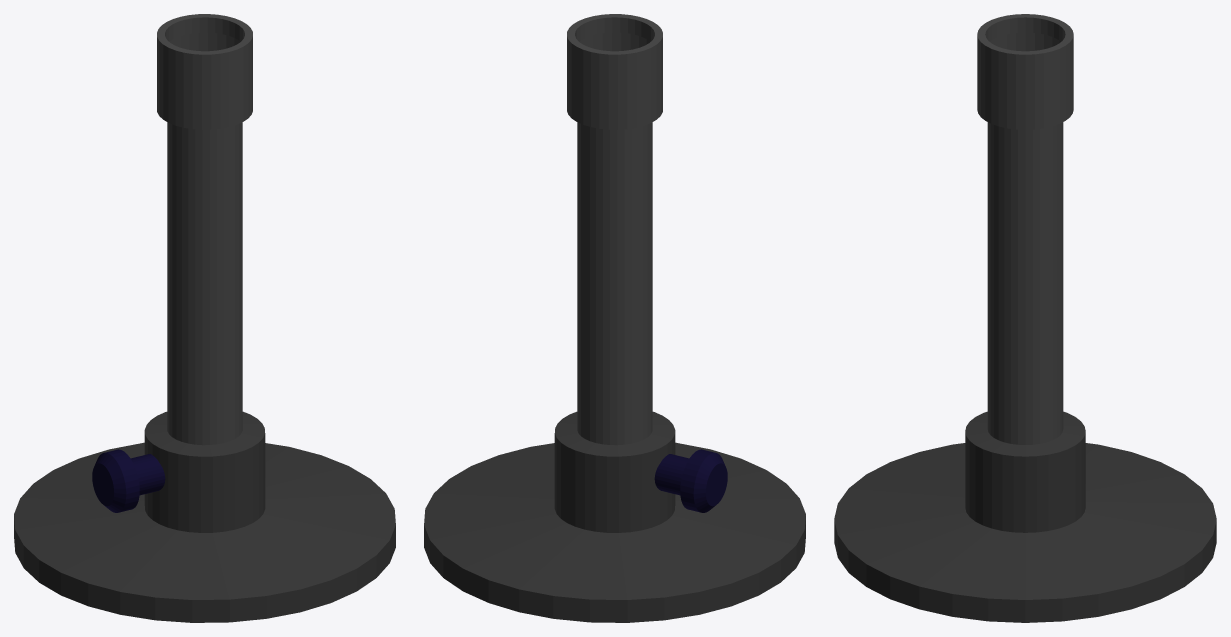
The model's file is BunsenBurner.fbx.
3 views of the same model, side by side, from view 1: azimuth 30°, elevation 25°; view 2: azimuth 150°, elevation 25°; view 3: azimuth 270°, elevation 25° (orthographic).
Parts seen in each view (by area): view 1: BunsenMain, Knob; view 2: BunsenMain, Knob; view 3: BunsenMain.
Part boxes in pixels (box(x1,y1,x2,y2)): BunsenMain: box(14, 14, 395, 622); Knob: box(92, 449, 165, 512); BunsenMain: box(424, 14, 805, 622); Knob: box(654, 449, 727, 512); BunsenMain: box(834, 14, 1216, 622).
Bounding box in the file's own units: 200 × 293 × 200.
